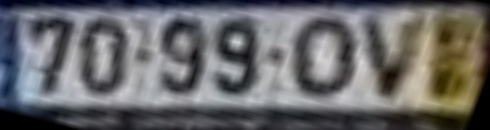0: (74, 20, 133, 105)
7: (28, 18, 80, 105)
9: (155, 15, 210, 103), (210, 19, 263, 104)
O: (287, 15, 363, 103)
V: (353, 15, 439, 106)
